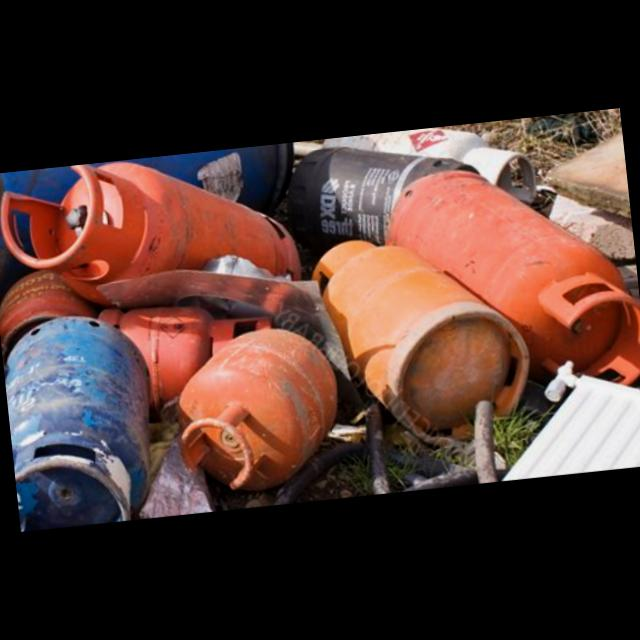Cylinders: (384, 167, 640, 383), (314, 238, 528, 440), (0, 160, 298, 284), (4, 316, 148, 531), (323, 127, 538, 203)
